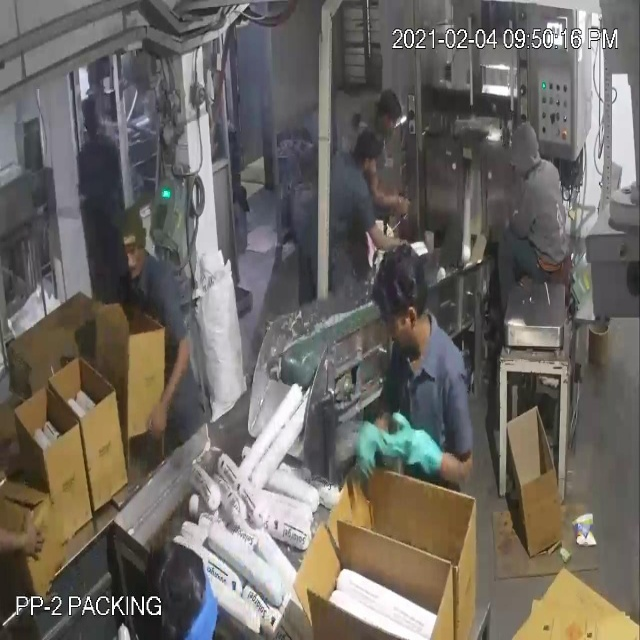Guantes: (383, 388, 449, 505), (348, 407, 386, 490)
Sin_guantes: (136, 323, 195, 460), (0, 506, 59, 568), (364, 166, 414, 220), (365, 210, 412, 262)
